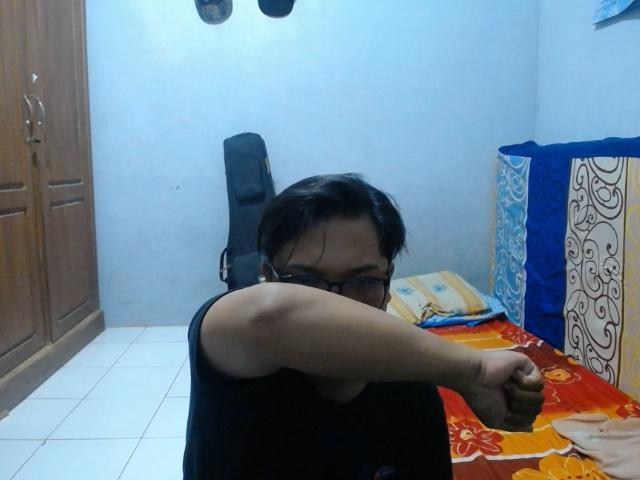Grab: (471, 342, 549, 444)
